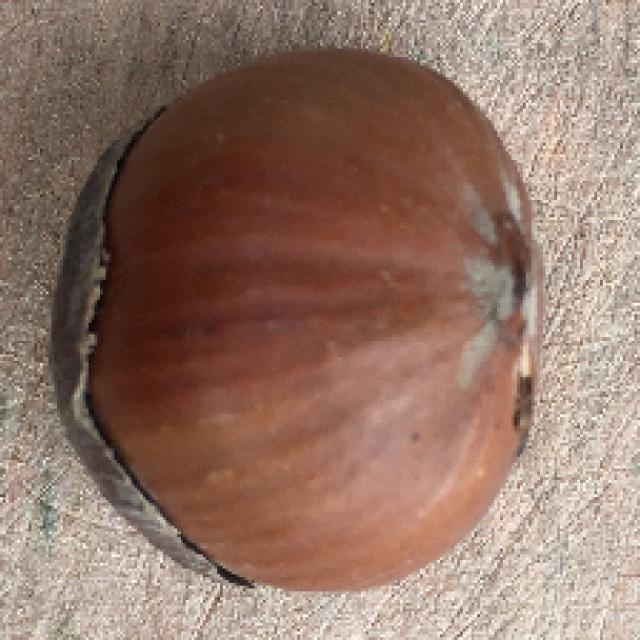damagedHazelnut: (51, 43, 558, 596)
